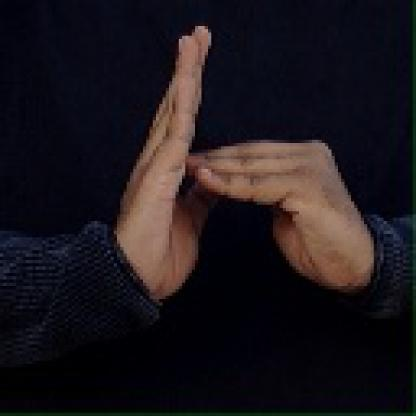Z: (115, 21, 352, 302)
